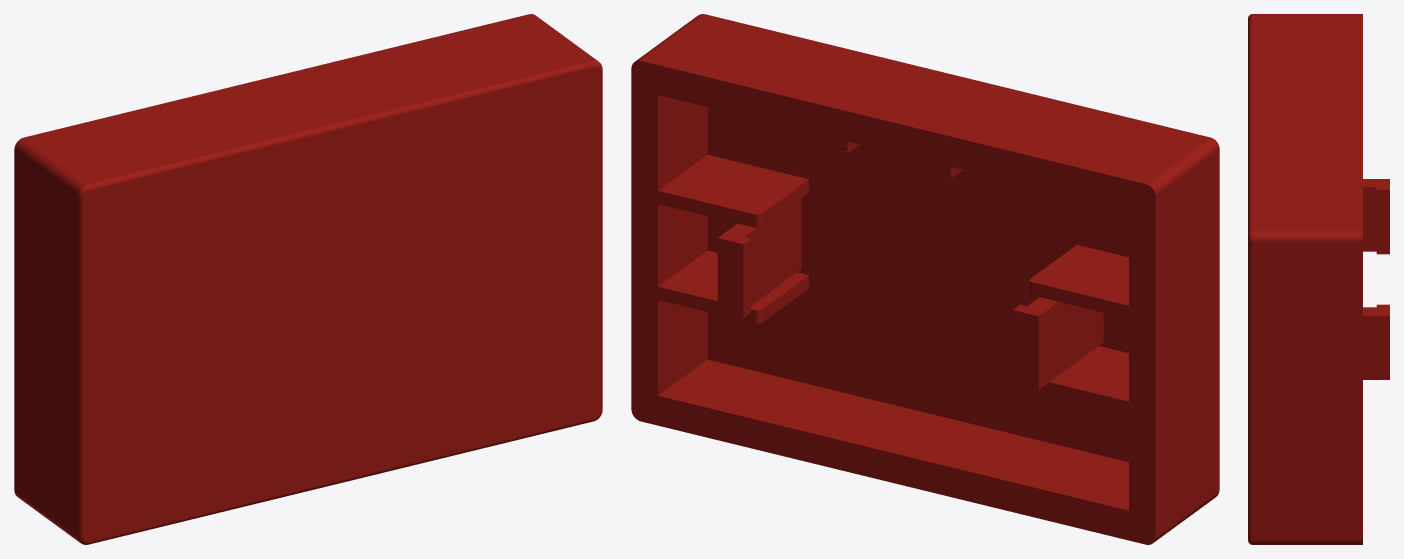
Rendered from 150_BLOCKER.fbx.
3 renders of one model, left to right at view 1: azimuth 30°, elevation 25°; view 2: azimuth 150°, elevation 25°; view 3: azimuth 270°, elevation 25°, orthographic. The views are drawn at different scales.
Visible parts, largest first — view 1: Body9; view 2: Body9; view 3: Body9.
Boxes of the visible parts, x1,y1,x2,y2 form: Body9: [14, 14, 602, 544]; Body9: [631, 14, 1219, 544]; Body9: [1248, 14, 1389, 544].
Bounding box in the file's own units: 27.51 × 18.08 × 7.4.
